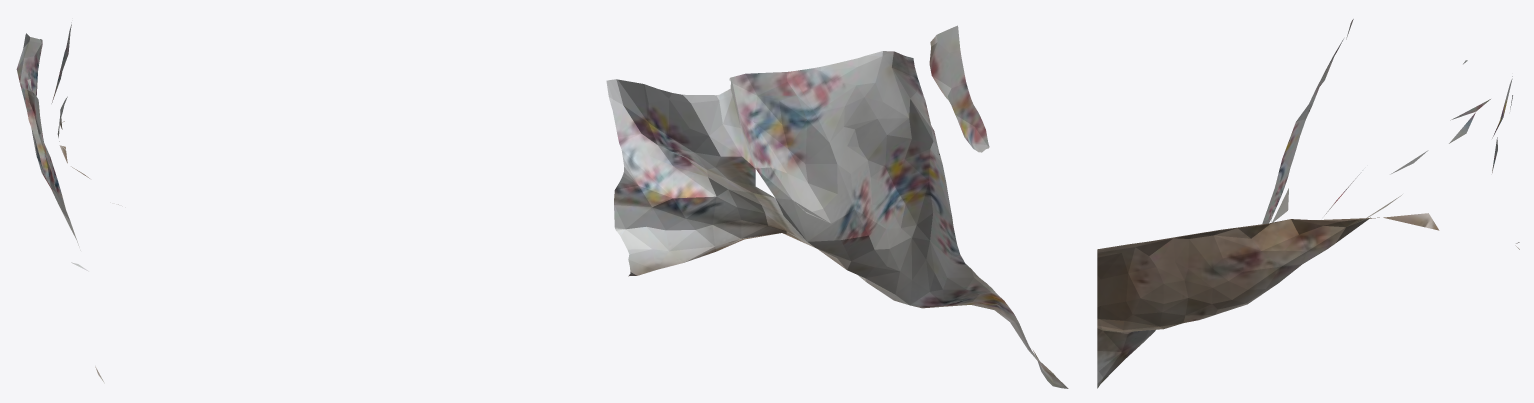
The picture shows the model from 3 angles, left to right: view 1: azimuth 30°, elevation 25°; view 2: azimuth 150°, elevation 25°; view 3: azimuth 270°, elevation 25°; orthographic projection. The views are drawn at different scales.
Bounding box in the file's own units: 171 × 165 × 171.
Materials: 1 (1 with a texture image).
